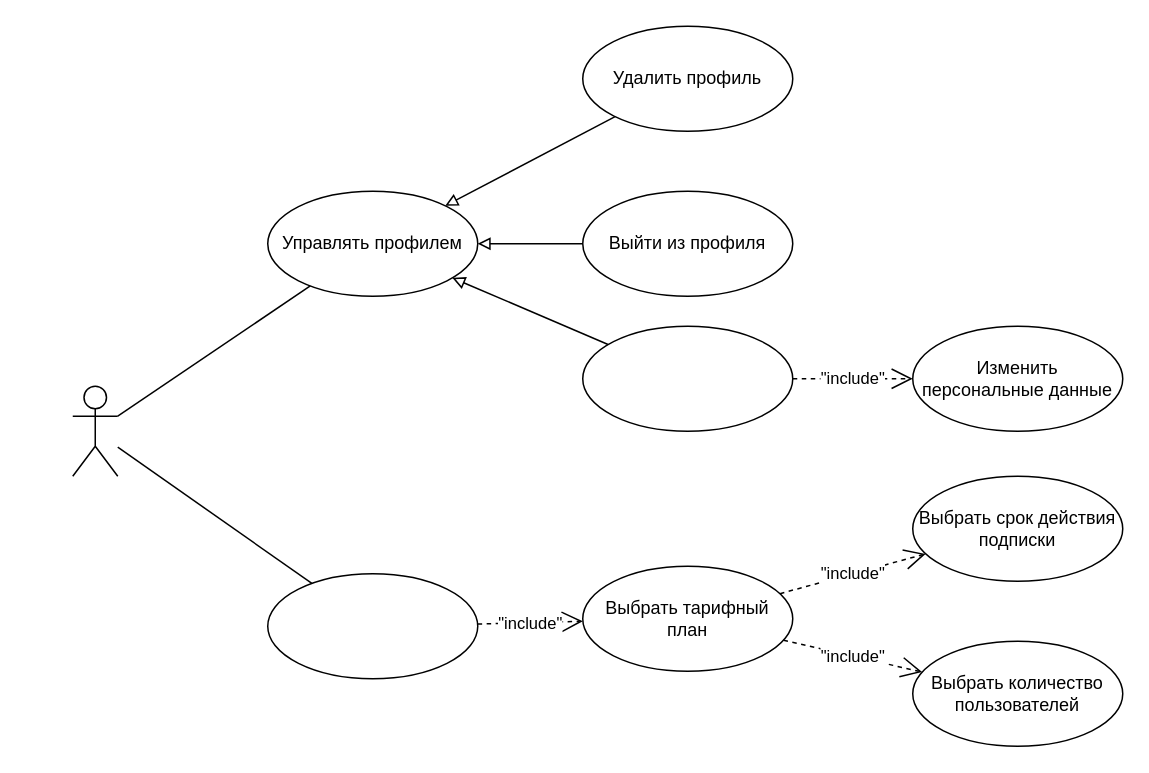
The diagram is 1149 pixels wide and 773 high, and some of its shapes have lost their labels. The shapes that lost their labels are listed below. From the top down, each one's centre as x and y in pixels, then its label:
At [687,378]: "Настроить профиль".
At [94,430]: "Авторизованный пользователь".
At [372,625]: "Оформить подписку".
